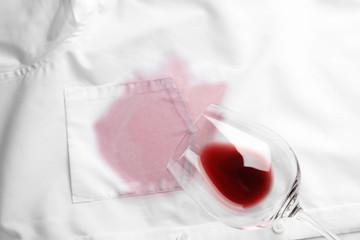gun: (94, 63, 181, 199), (184, 68, 221, 123)
